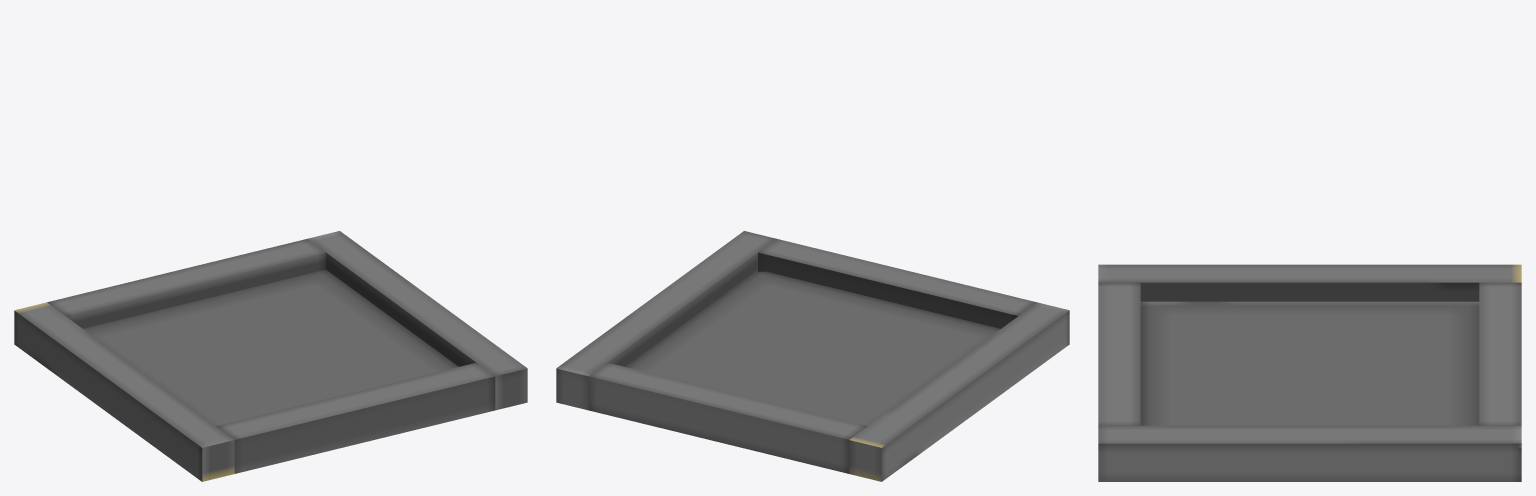
Rendered from rotatePad-unlit-1.fbx.
The picture shows the model from 3 angles, left to right: view 1: azimuth 30°, elevation 25°; view 2: azimuth 150°, elevation 25°; view 3: azimuth 270°, elevation 25°; orthographic projection. The views are drawn at different scales.
Parts seen in each view (by area): view 1: cube, cube_4, cube_2, cube_1, cube_3; view 2: cube, cube_3, cube_2, cube_1, cube_4; view 3: cube, cube_1, cube_2, cube_3, cube_4.
Part boxes in pixels (<box>): cube: <box>83,269,458,425</box>; cube_4: <box>216,362,495,473</box>; cube_2: <box>14,302,234,481</box>; cube_1: <box>307,231,527,410</box>; cube_3: <box>47,239,325,328</box>; cube: <box>625,270,1000,425</box>; cube_3: <box>588,362,867,473</box>; cube_2: <box>849,302,1069,481</box>; cube_1: <box>556,231,776,410</box>; cube_4: <box>758,239,1036,328</box>; cube: <box>1140,301,1479,425</box>; cube_1: <box>1098,425,1521,481</box>; cube_2: <box>1098,264,1521,301</box>; cube_3: <box>1479,282,1521,447</box>; cube_4: <box>1098,282,1140,425</box>.
Size of the model in its own units: 62.5 by 50 by 62.5.
